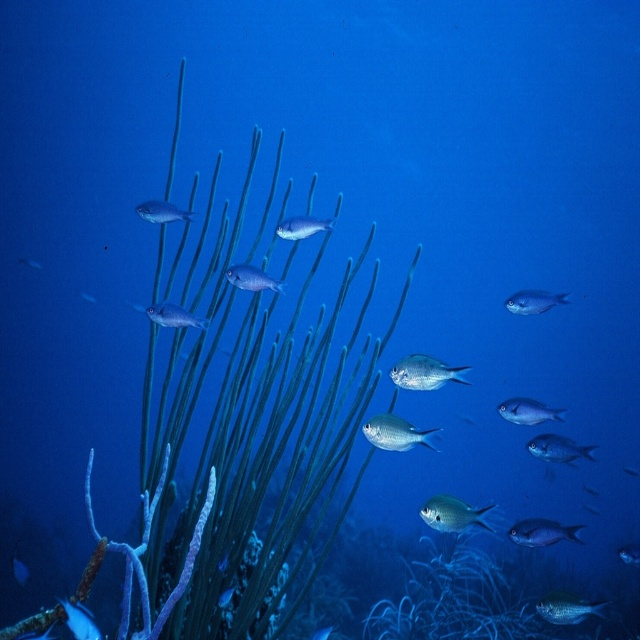Fish: (390, 349, 478, 413), (418, 501, 497, 547), (358, 421, 443, 463), (528, 429, 605, 471), (532, 597, 611, 637), (504, 513, 589, 548), (144, 294, 208, 336), (225, 264, 292, 299), (498, 396, 568, 429), (503, 288, 571, 312), (279, 209, 334, 237), (134, 196, 196, 219), (617, 541, 640, 562), (624, 464, 639, 477), (585, 484, 599, 496)
